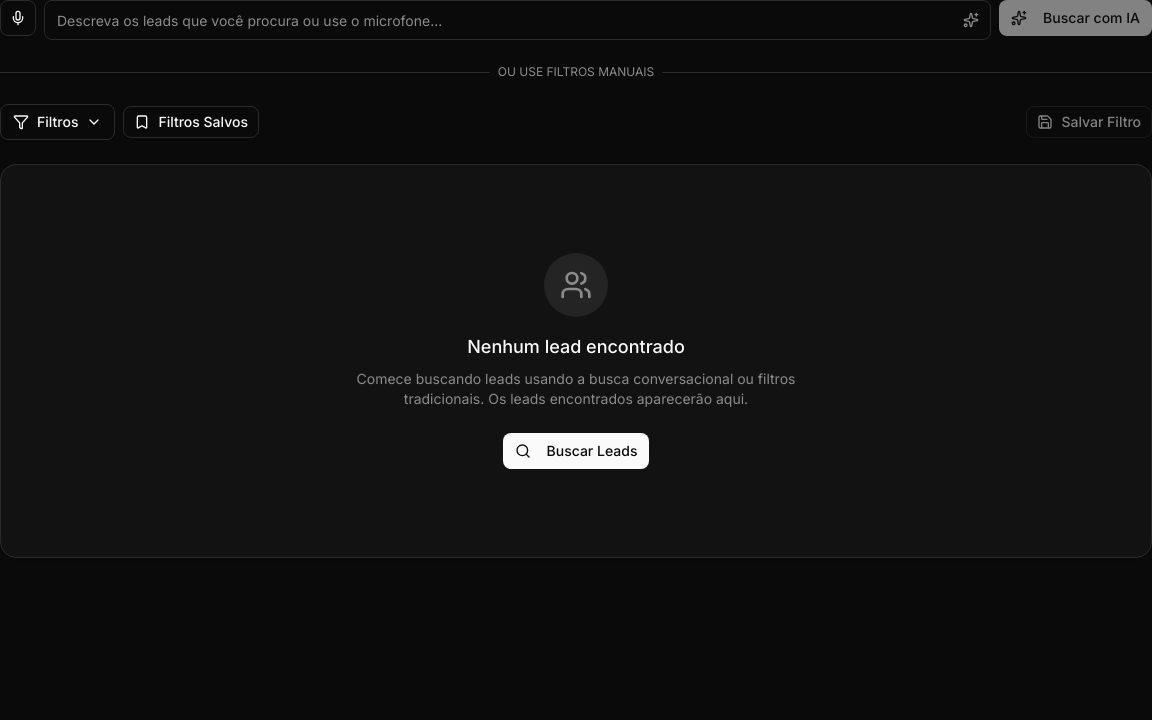
Scenario: Filter Search Flow › shows empty state when no results
Expand and search
Click the button with test id "filter-toggle-button" at (58, 122), box x1=0 y1=104 x2=115 y2=140
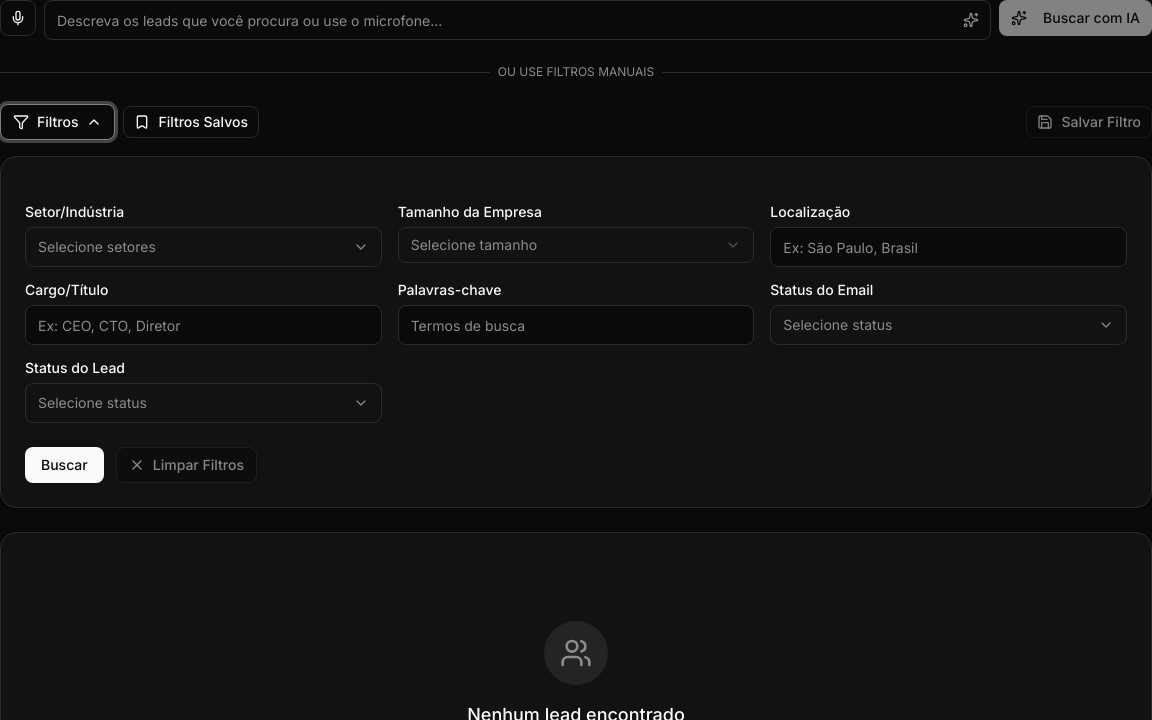
Click the button with test id "search-button" at (64, 465), box x1=25 y1=447 x2=104 y2=483
(page scrolled)
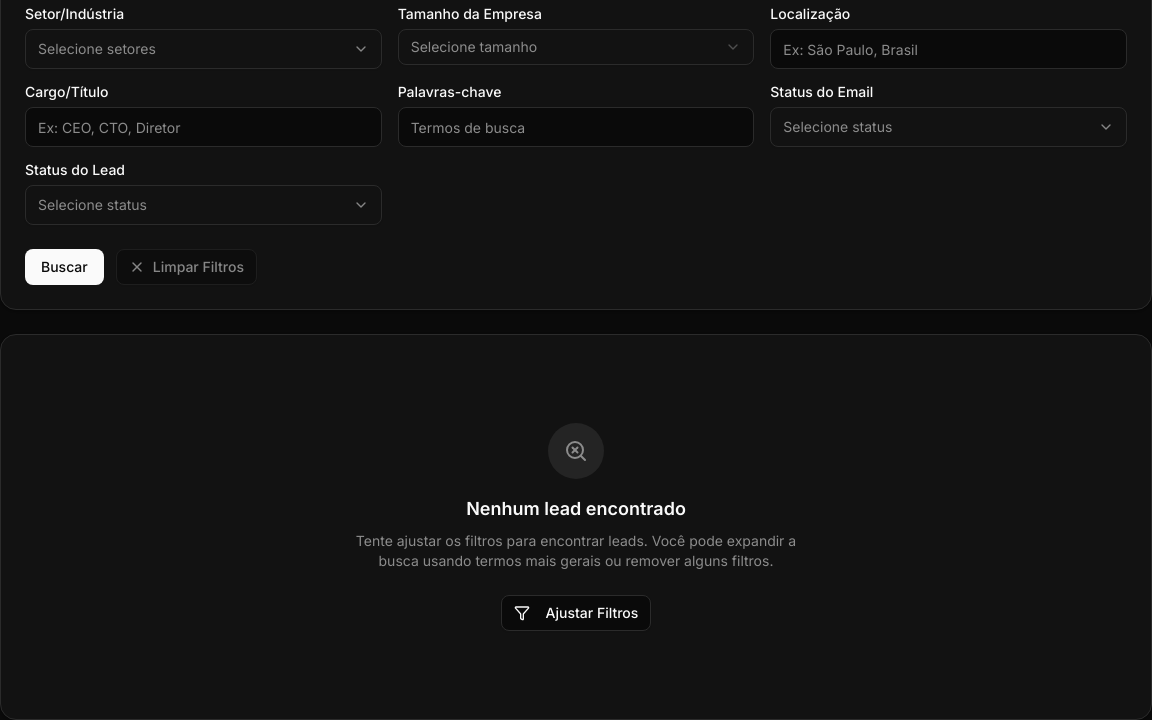
Expected: the element with test id "search-empty-state" is shown, x1=0 y1=334 x2=1151 y2=719
Expected: the text "Tente ajustar os filtros para encontrar leads" is shown, x1=356 y1=532 x2=796 y2=569
